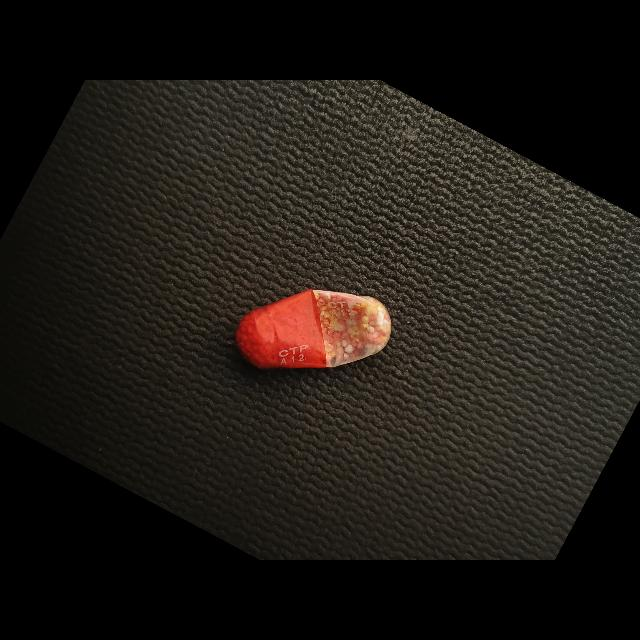Defective Capsule: (236, 289, 391, 368)
